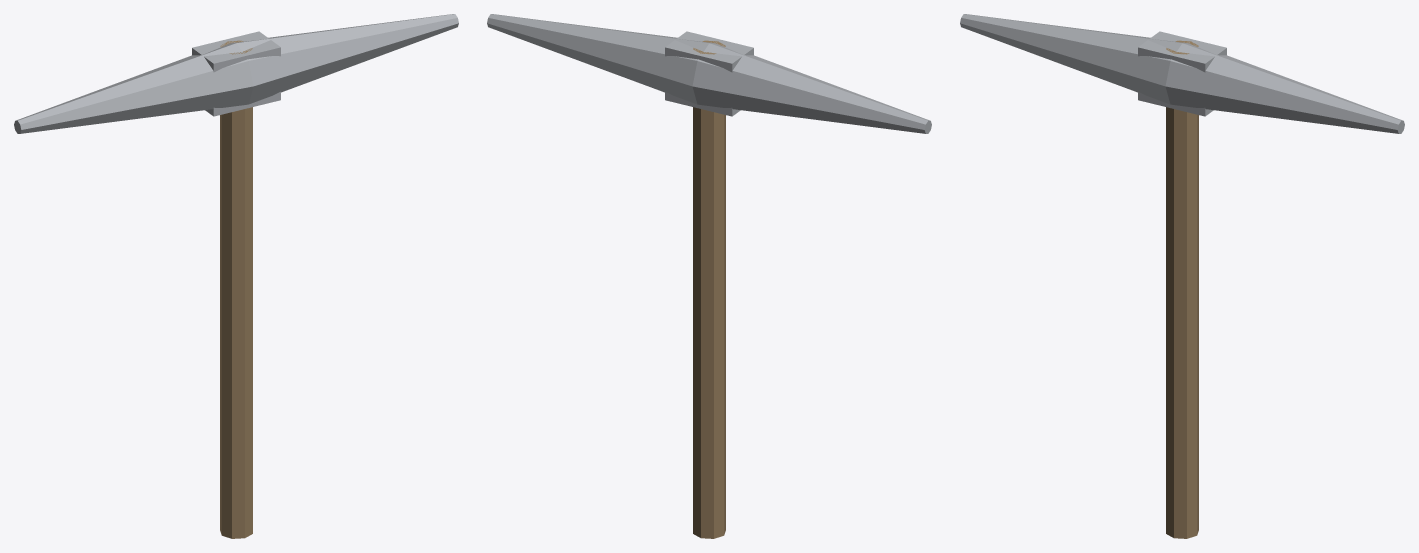
File: wpn-pickaxe.glb
3 renders of one model, left to right at view 1: azimuth 30°, elevation 25°; view 2: azimuth 150°, elevation 25°; view 3: azimuth 330°, elevation 25°, orthographic.
Visible parts, largest first — view 1: Cylinder, Cone.001, Cone, Cube; view 2: Cylinder, Cone.001, Cone, Cube; view 3: Cylinder, Cone, Cone.001, Cube.
Part boxes in pixels (x1,y1,x2,y2): Cylinder: (220, 40, 252, 538); Cone.001: (14, 43, 253, 133); Cone: (232, 14, 458, 104); Cube: (192, 31, 280, 116); Cylinder: (693, 40, 725, 538); Cone.001: (692, 43, 931, 133); Cone: (487, 14, 713, 104); Cube: (665, 31, 753, 116); Cylinder: (1166, 40, 1198, 538); Cone: (1165, 43, 1404, 133); Cone.001: (960, 14, 1186, 104); Cube: (1138, 31, 1226, 116).
Bounding box in the file's own units: 104 × 111 × 14.
